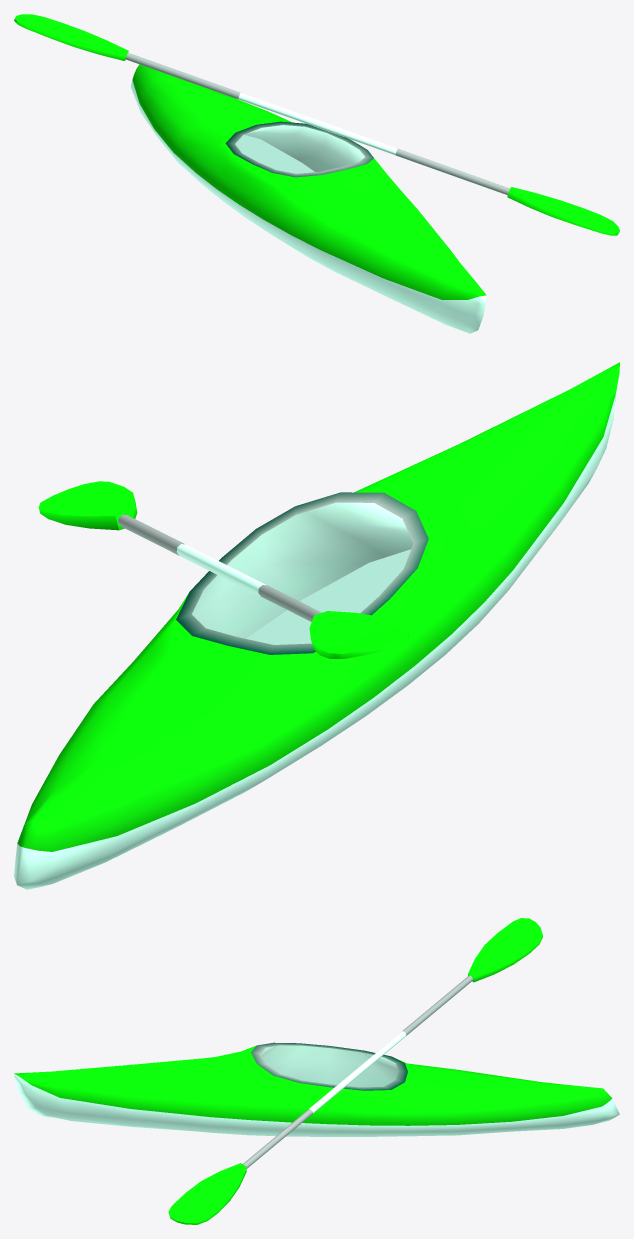
Rendered from kayak.glb.
3 views of the same model, one above another, from view 1: azimuth 30°, elevation 25°; view 2: azimuth 150°, elevation 25°; view 3: azimuth 270°, elevation 25° (orthographic). The views are drawn at different scales.
Visible parts, largest first — view 1: kayak_atlas_0, kayak_paddle_atlas_0; view 2: kayak_atlas_0, kayak_paddle_atlas_0; view 3: kayak_atlas_0, kayak_paddle_atlas_0.
Boxes of the visible parts, x1,y1,x2,y2 form: kayak_atlas_0: [130, 64, 486, 333]; kayak_paddle_atlas_0: [14, 14, 619, 235]; kayak_atlas_0: [14, 362, 619, 889]; kayak_paddle_atlas_0: [38, 481, 408, 658]; kayak_atlas_0: [14, 1042, 619, 1136]; kayak_paddle_atlas_0: [168, 918, 542, 1224].
Size of the model in its own units: 1.45 by 0.556 by 2.2.
Materials: 1 (1 with a texture image).
